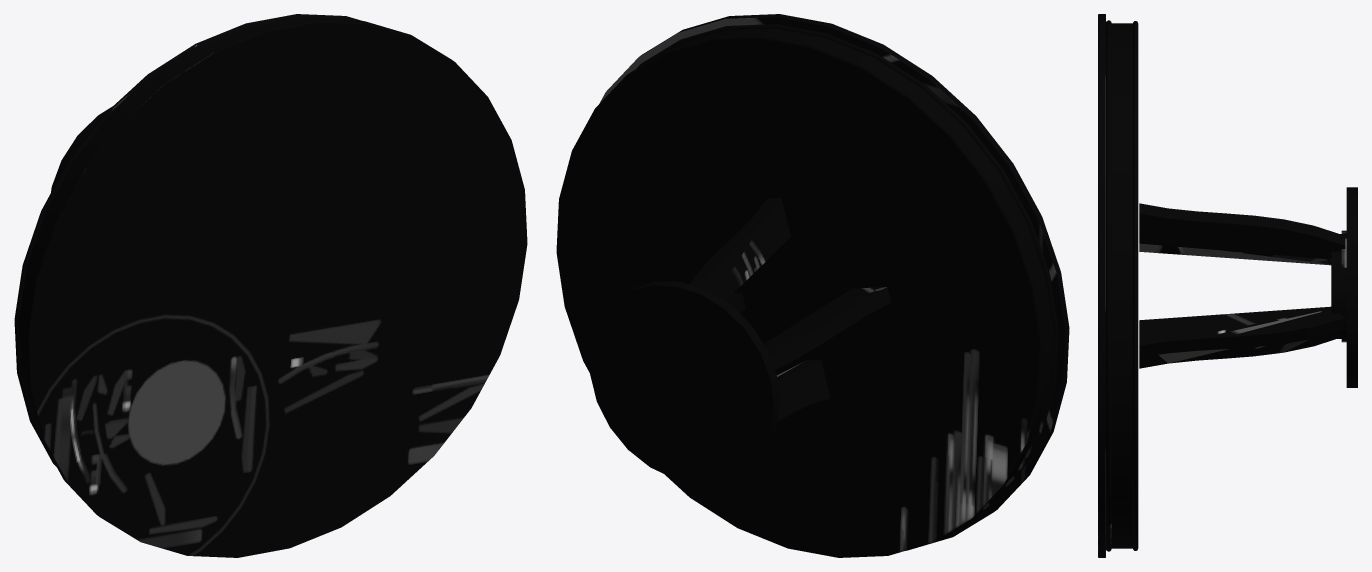
3 views of the same model, side by side, from view 1: azimuth 30°, elevation 25°; view 2: azimuth 150°, elevation 25°; view 3: azimuth 270°, elevation 25° (orthographic). The views are drawn at different scales.
Bounding box in the file's own units: 0.682 × 0.6823 × 0.326.
